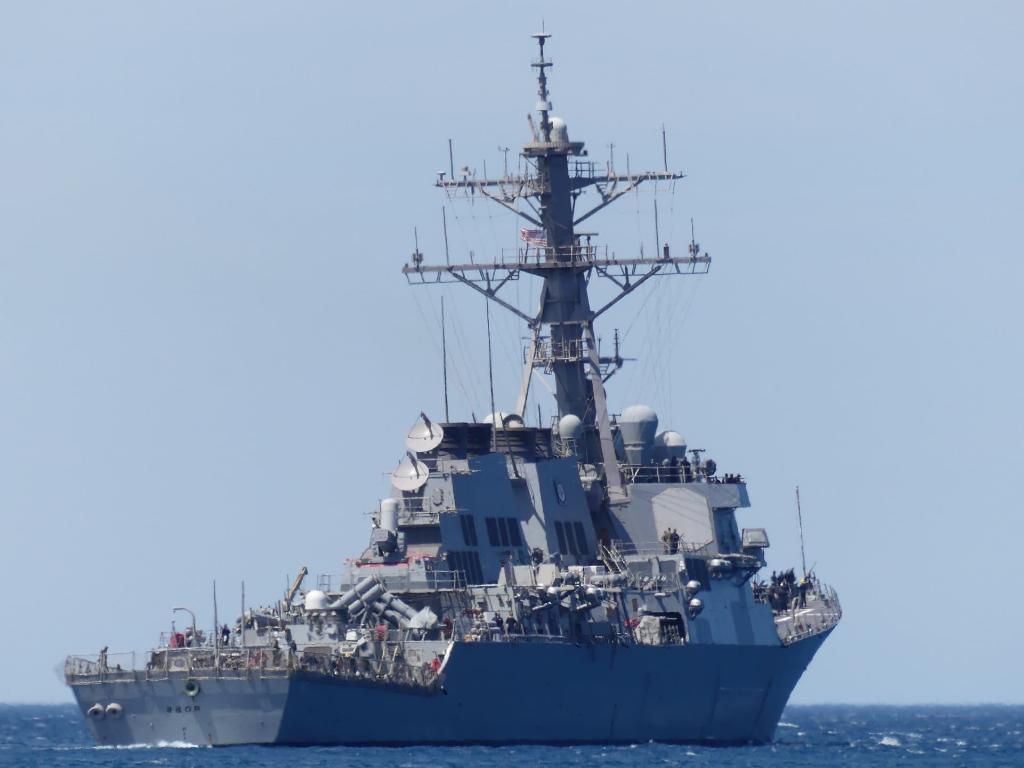Warship: (58, 24, 856, 760)
